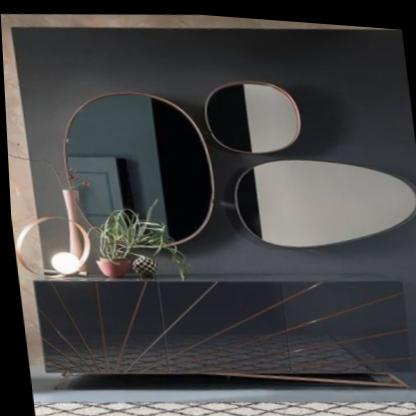Sideboard: (31, 276, 410, 391)
